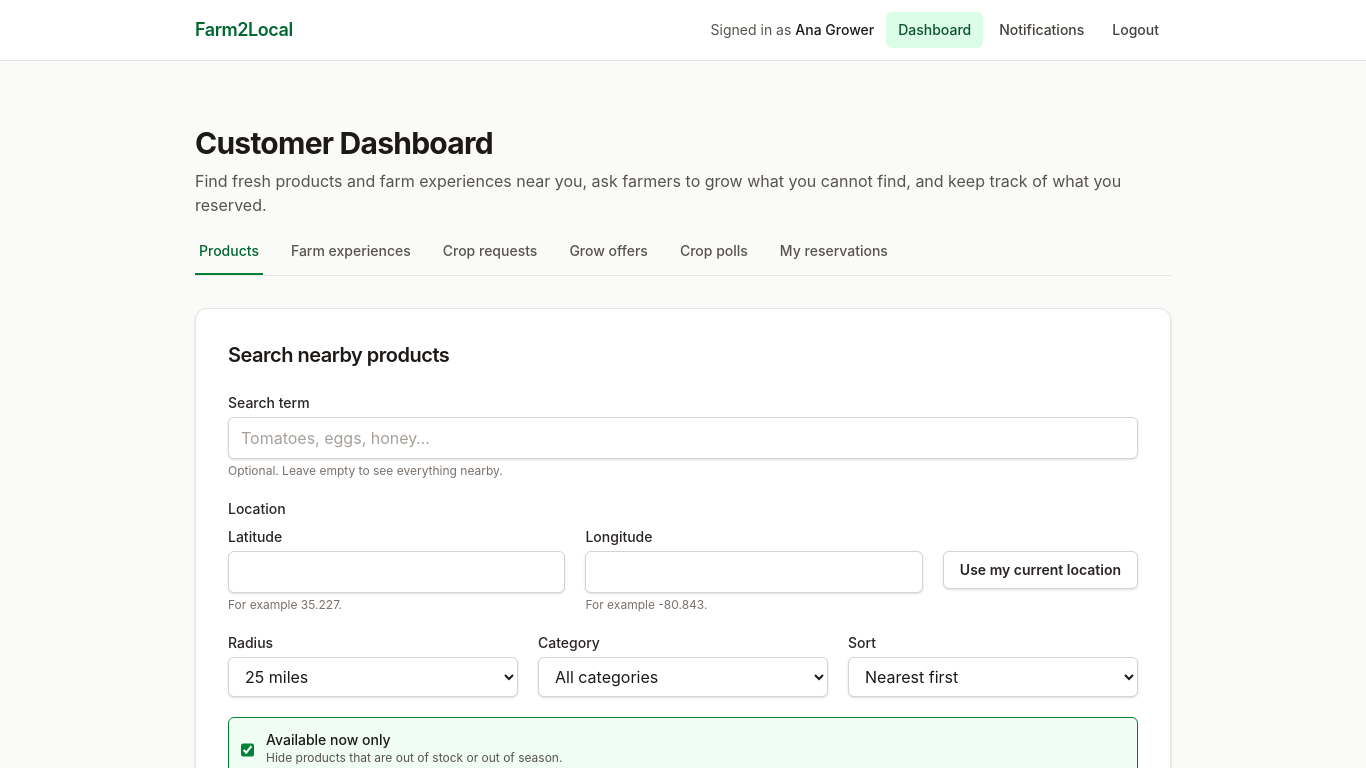
search form › rejects Longitude "west" without searching
Type "35.2271" into the field labelled "Latitude" at (397, 572), box x1=228 y1=551 x2=565 y2=593
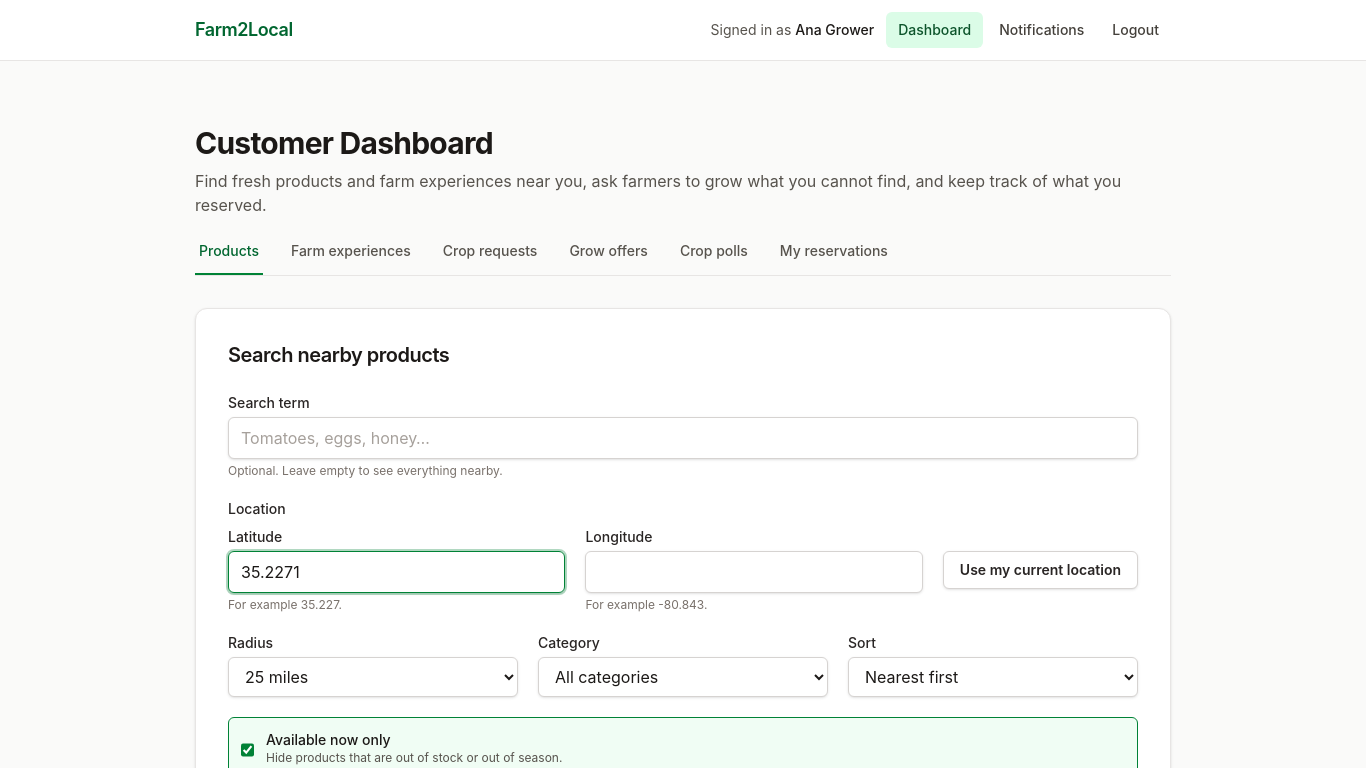
Type "-80.8431" into the field labelled "Longitude" at (754, 572), box x1=585 y1=551 x2=923 y2=593
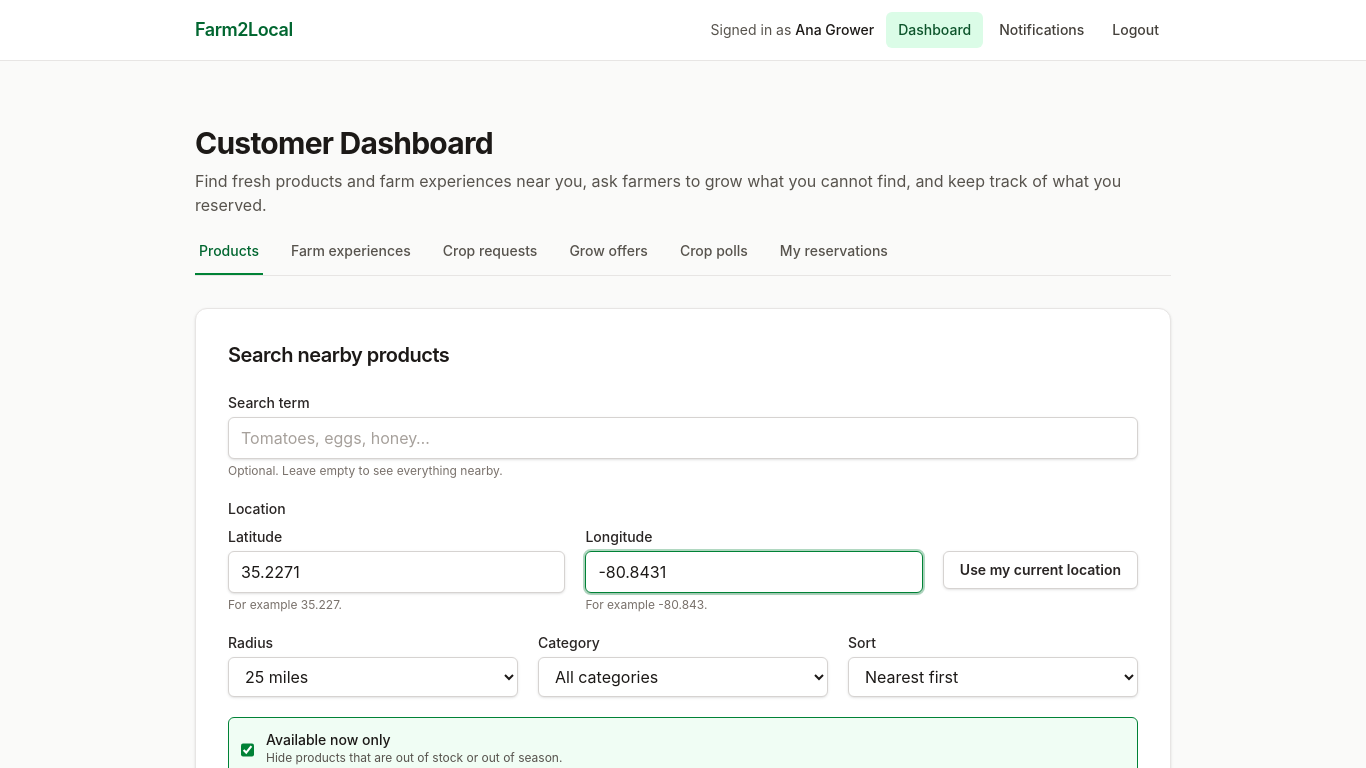
Replace the text in the field labelled "Longitude" with "west" at (754, 572), box x1=585 y1=551 x2=923 y2=593
(page scrolled)
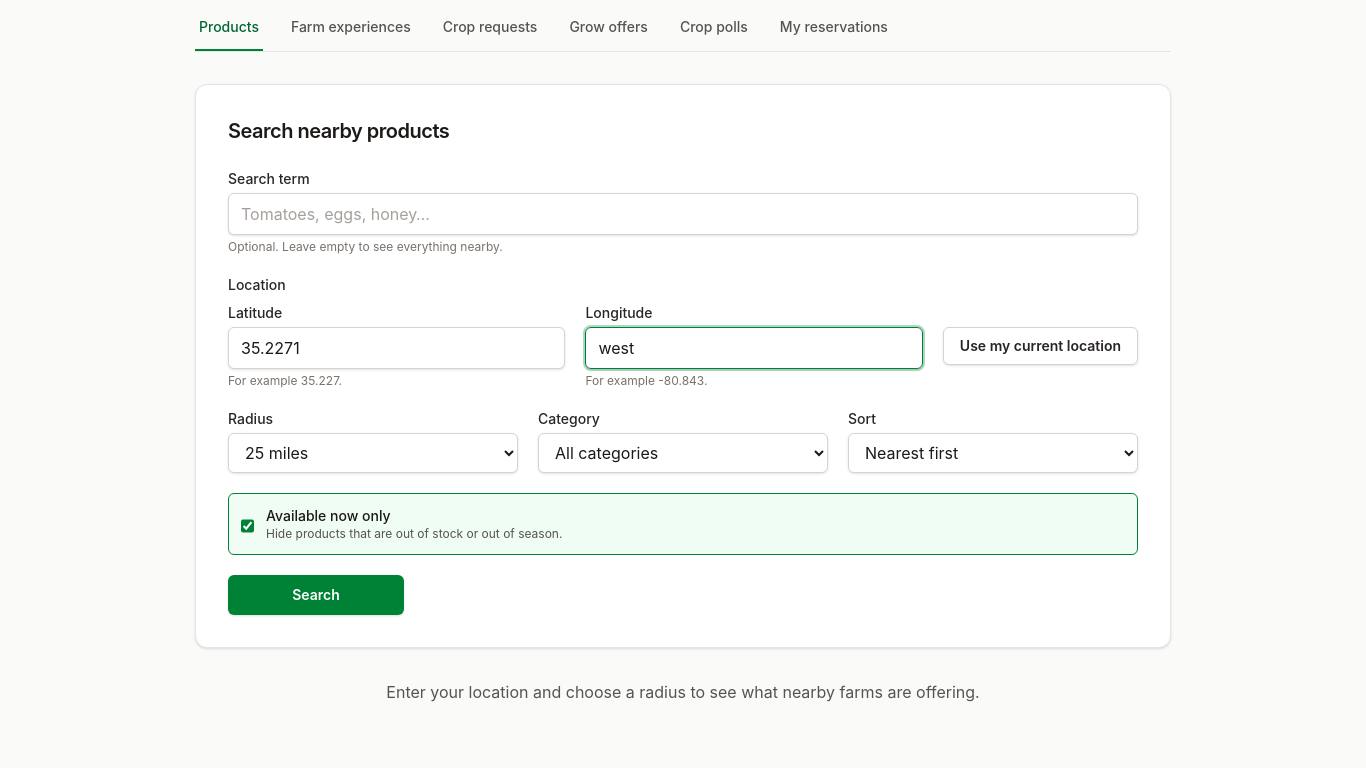
Click the button "Search" at (316, 595), box x1=228 y1=575 x2=404 y2=615
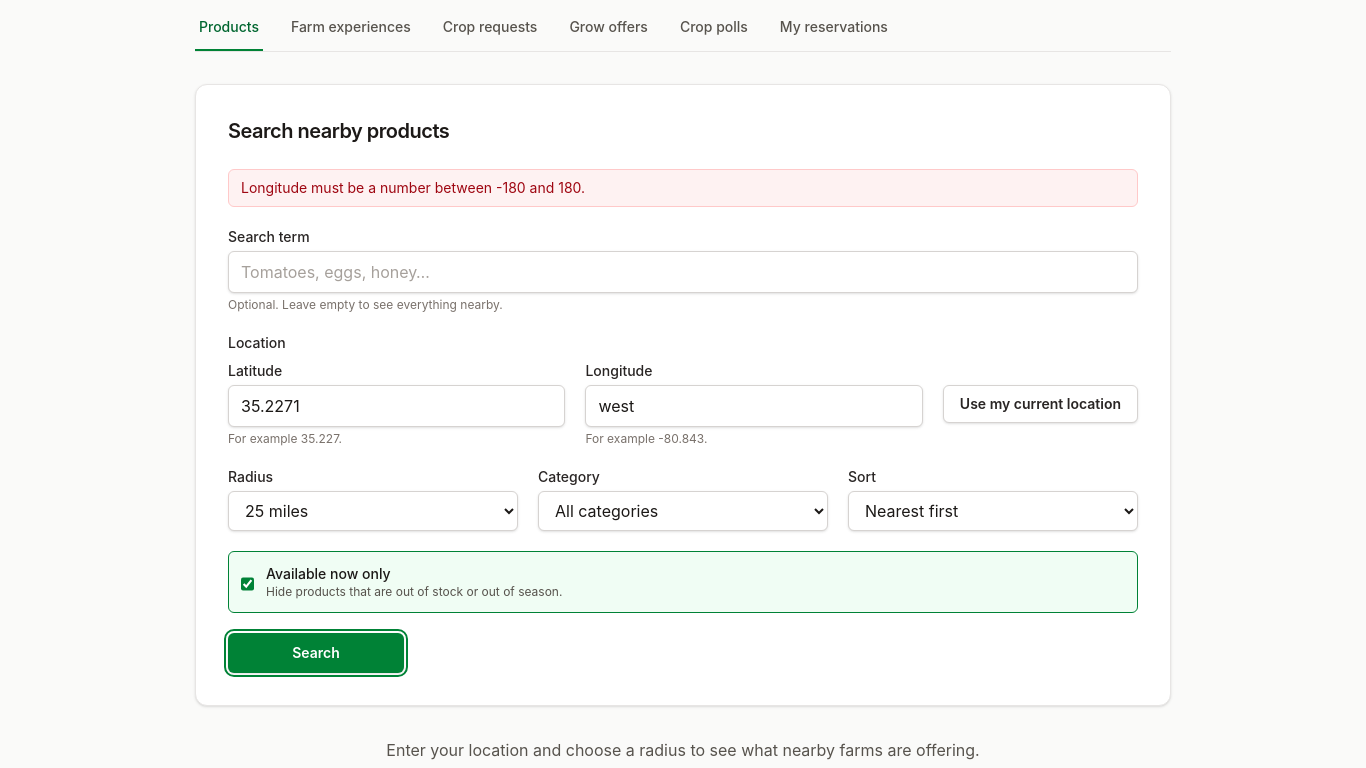
Result: the message reads "Longitude must be a number between -180 and 180." at x1=241 y1=179 x2=585 y2=196
